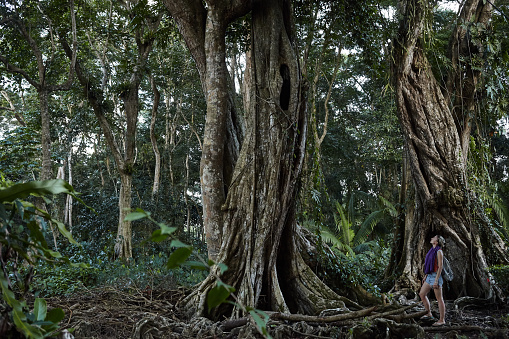em pe: (415, 230, 448, 316)
